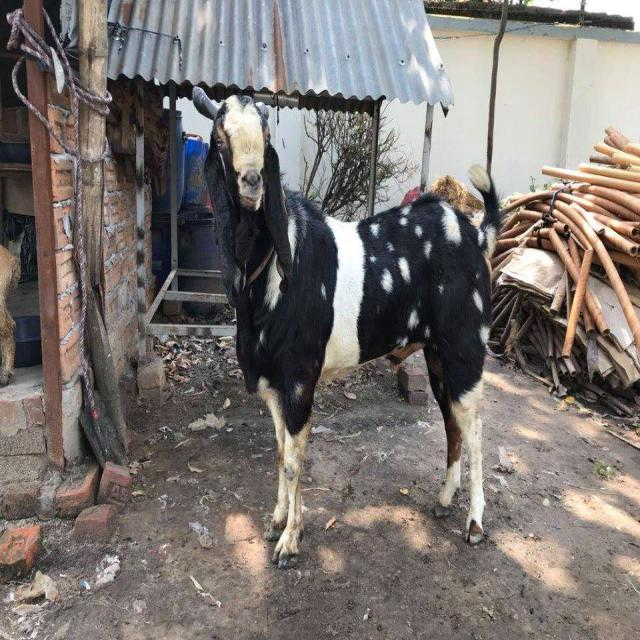Goat: (191, 85, 505, 569), (0, 243, 22, 386)
